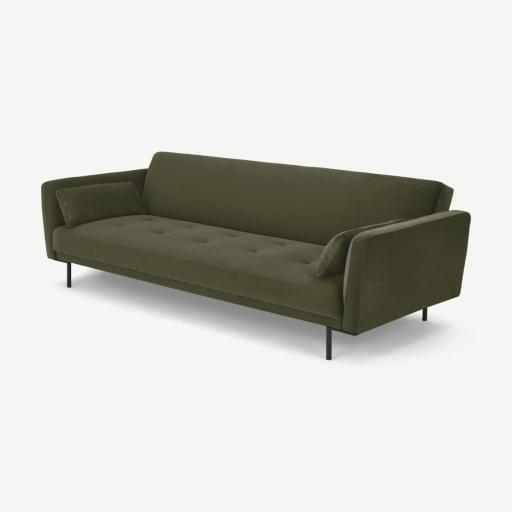back_cushion: (143, 152, 451, 245)
left_arm: (341, 211, 470, 334)
legs: (326, 327, 356, 360), (61, 262, 71, 287), (422, 308, 427, 321)
right_arm: (42, 169, 147, 258)
seat_cushion: (53, 215, 343, 327)
two-seater: (0, 0, 511, 512)
